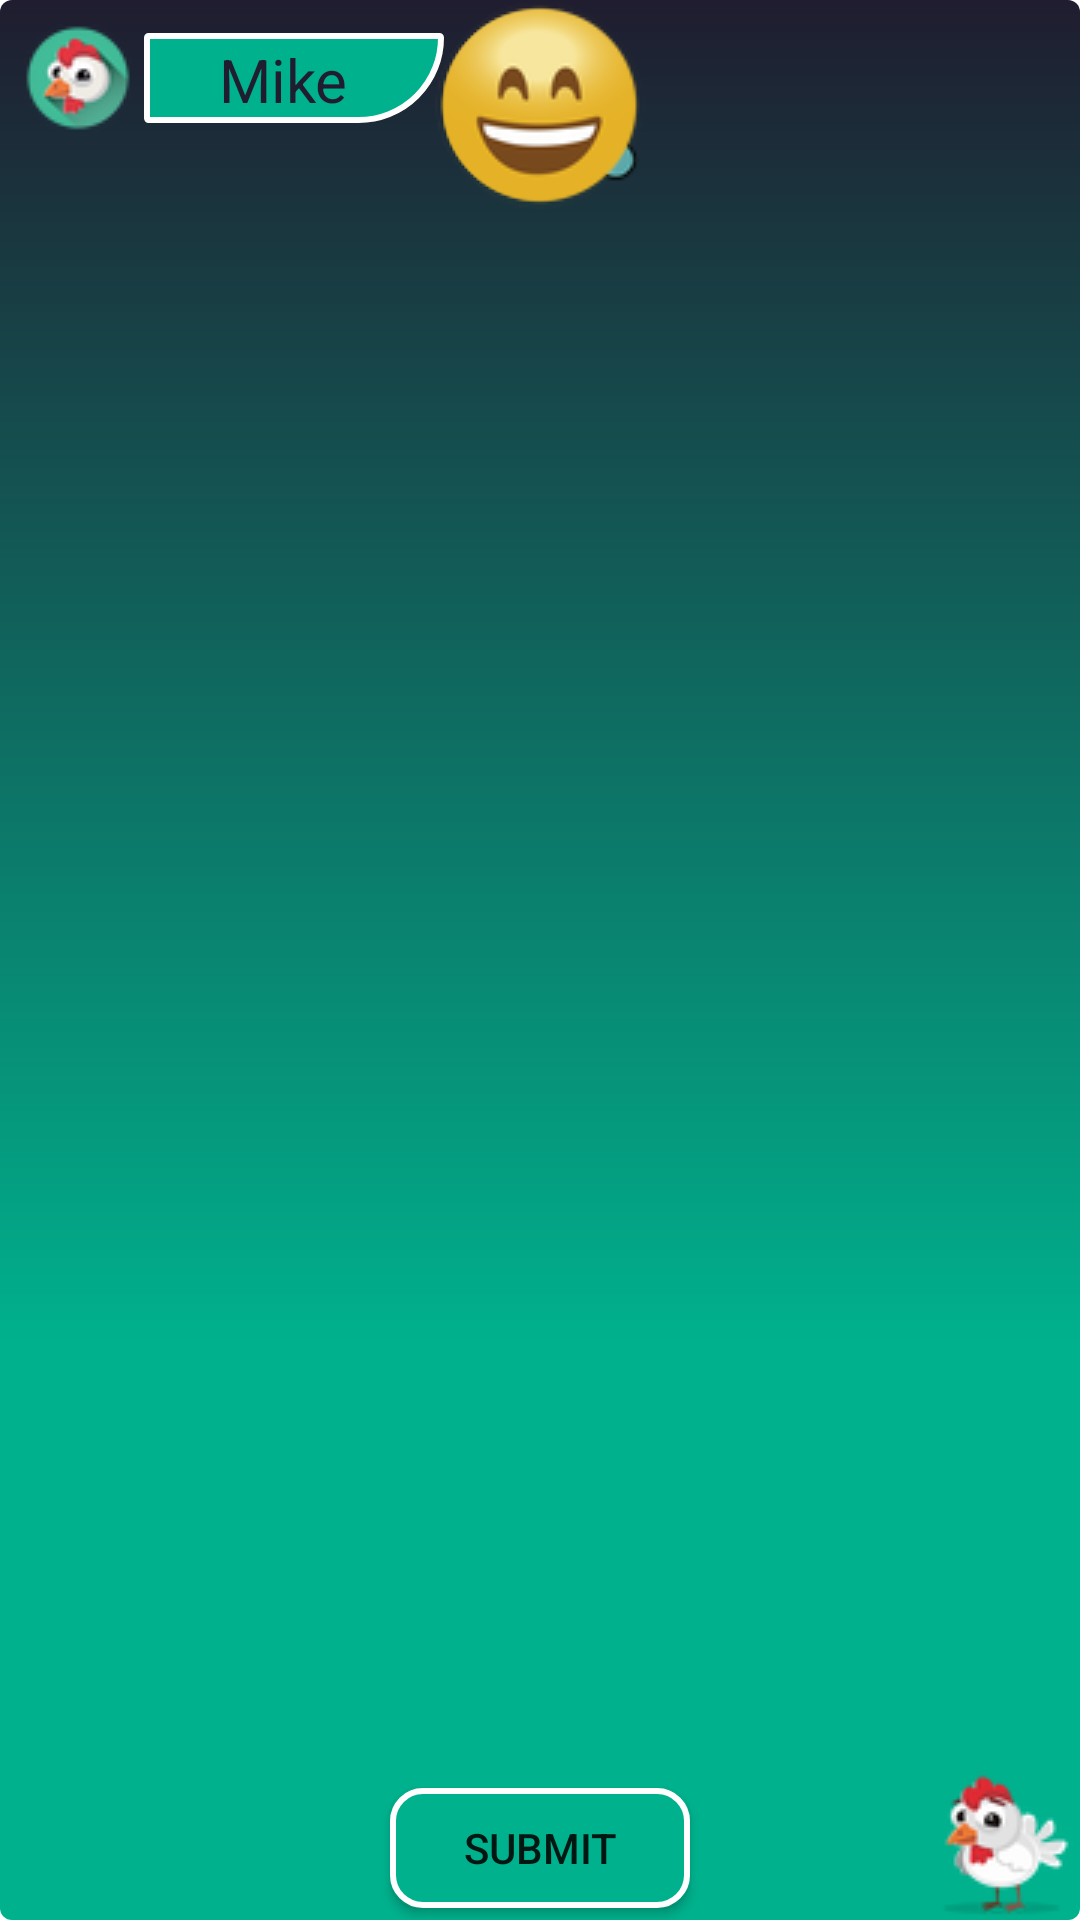

Where to tap for icons on this 1080 × 1920 app screen, as [x,y]:
henhead: [78,78]
smart_hen image: [1012,1847]
